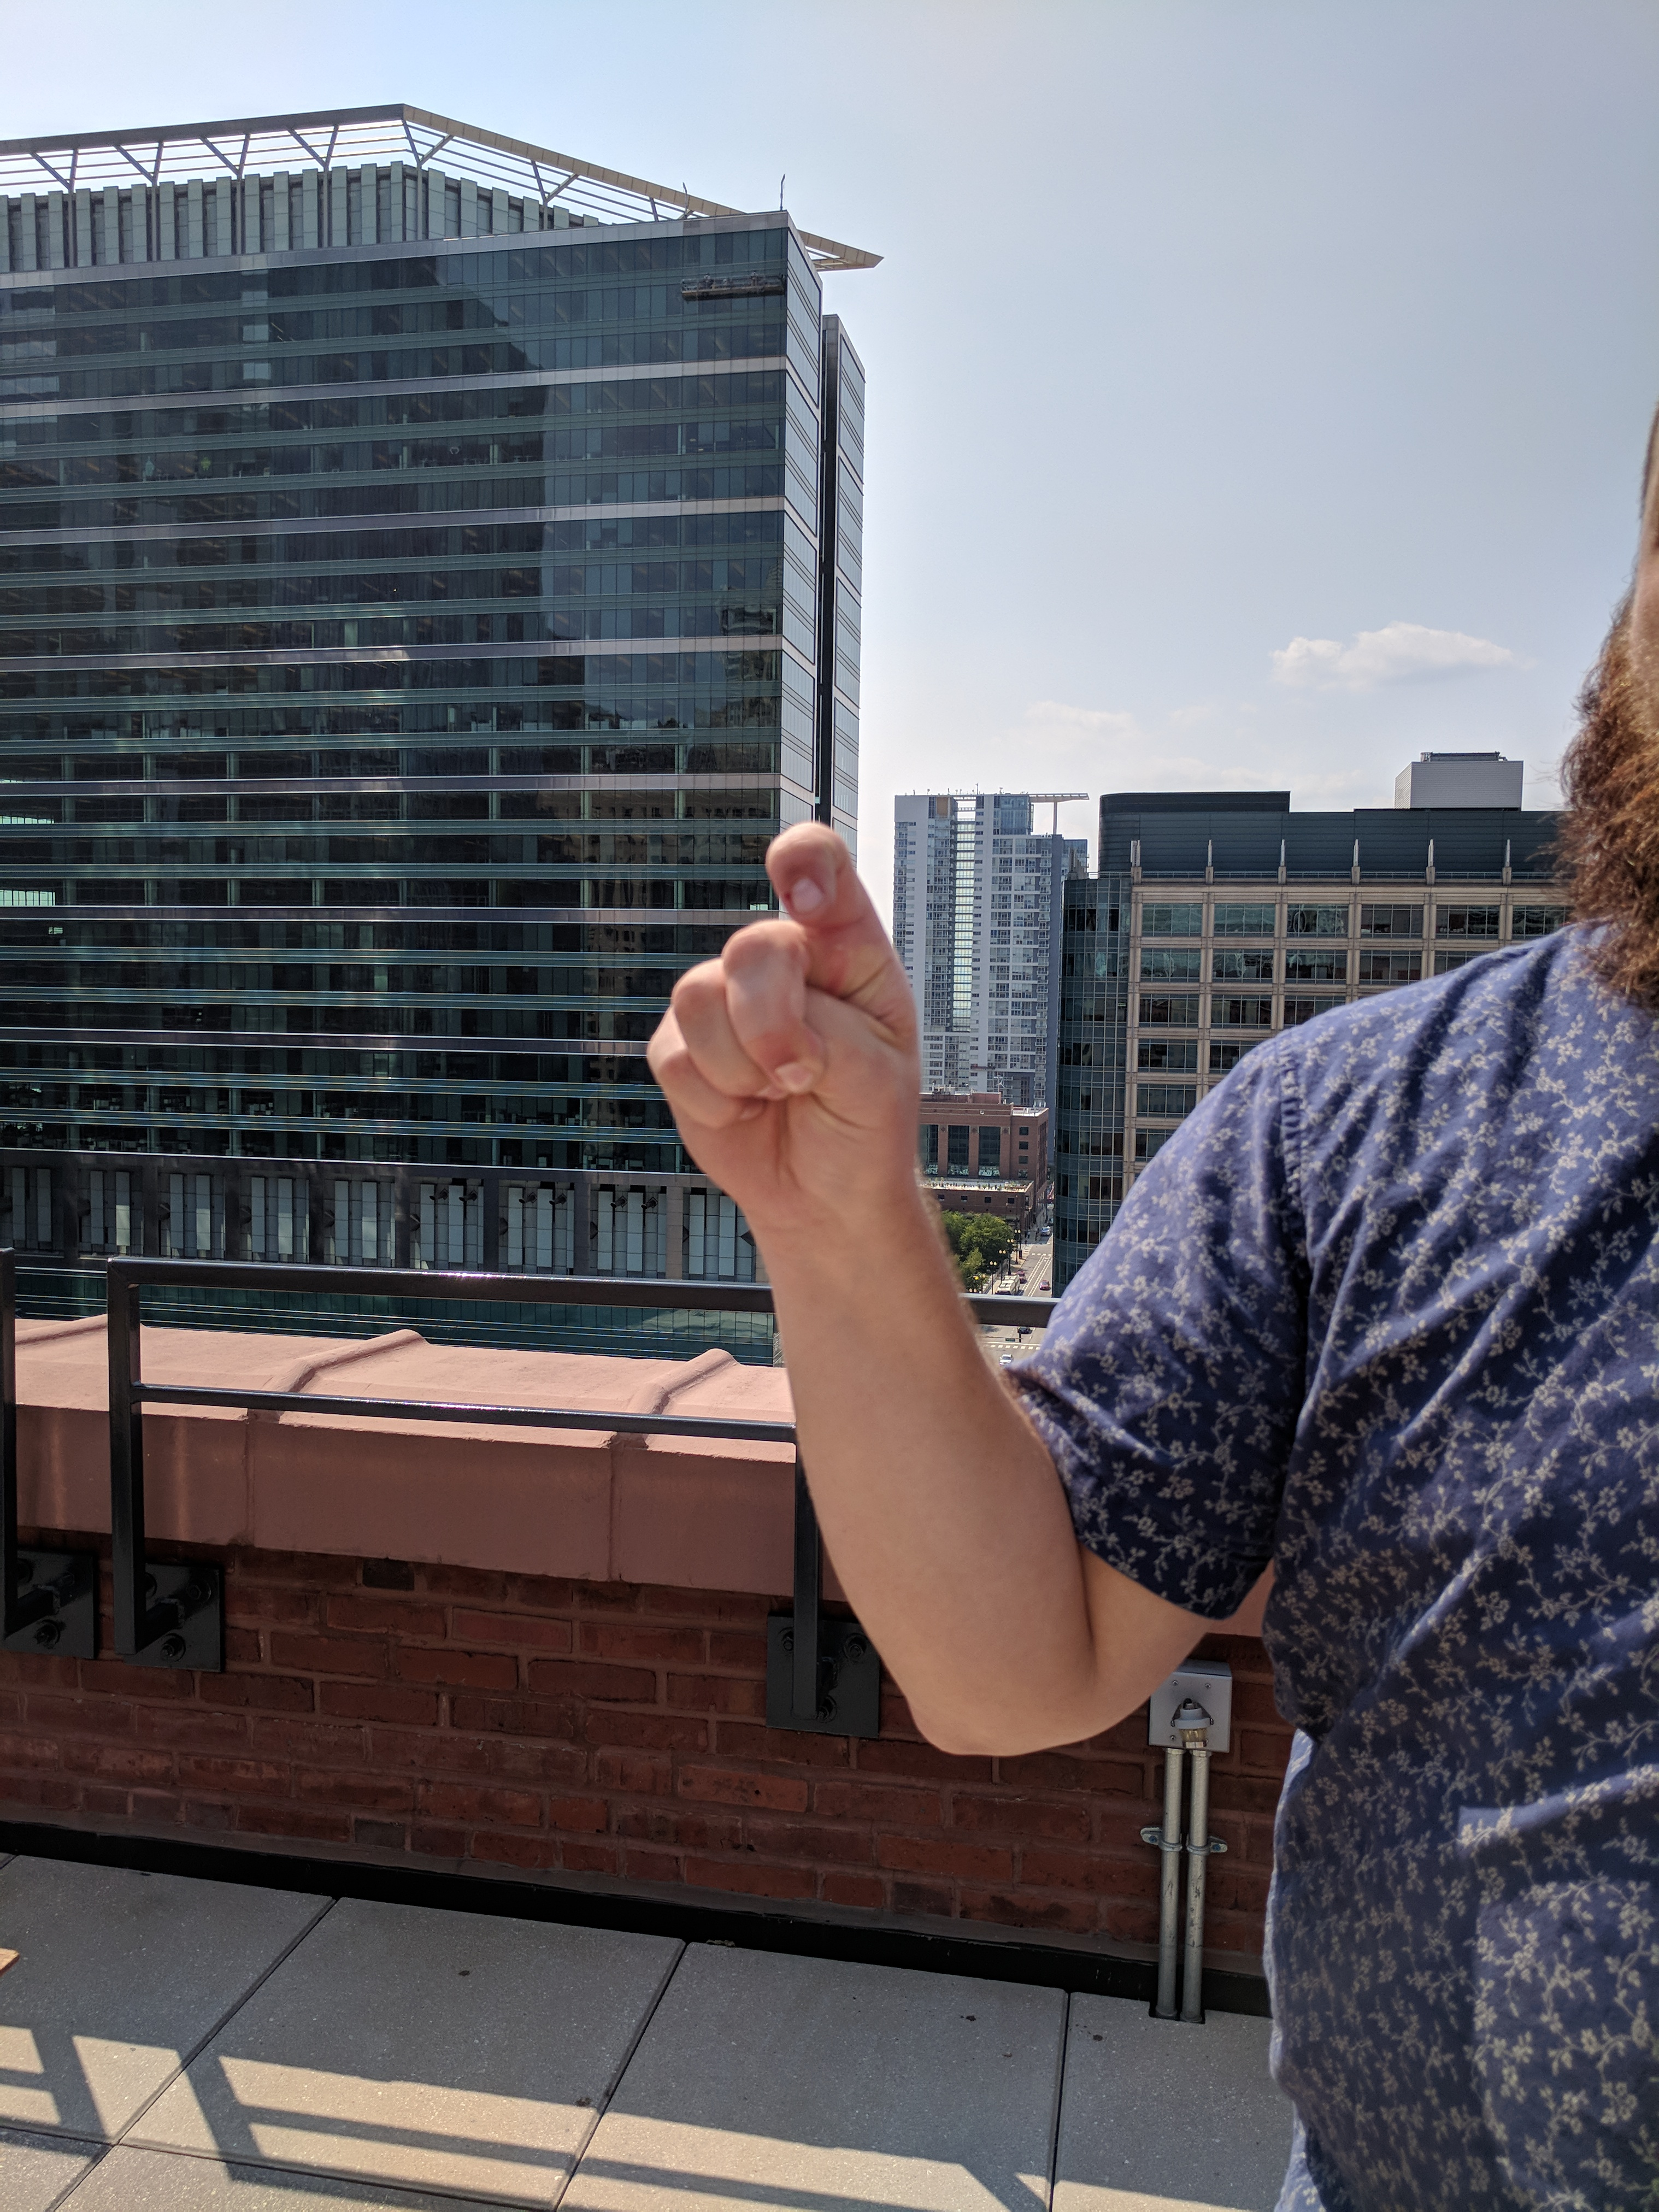x: (633, 813, 945, 1223)
